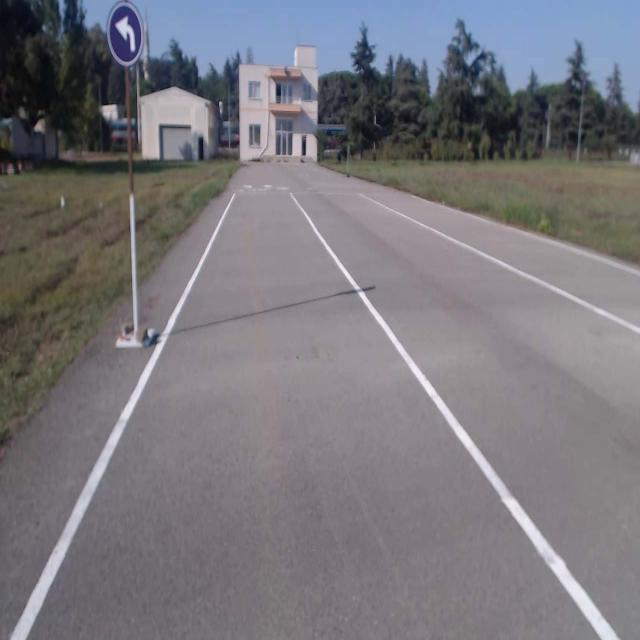sol: (108, 5, 144, 62)
